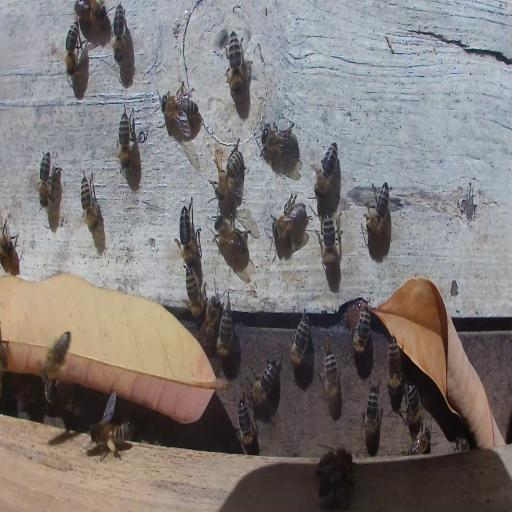bee: (248, 351, 283, 406), (36, 329, 73, 381), (260, 119, 298, 168), (271, 195, 307, 245), (88, 419, 134, 454), (316, 441, 355, 479), (79, 172, 102, 234), (314, 142, 339, 199), (226, 30, 248, 94), (176, 200, 198, 264), (318, 210, 339, 277), (321, 345, 340, 419), (366, 180, 391, 235), (319, 466, 356, 501), (214, 213, 245, 254), (200, 293, 223, 347), (362, 380, 382, 442), (290, 310, 311, 368), (236, 396, 256, 454), (348, 307, 372, 355), (186, 269, 204, 321), (387, 337, 401, 403), (111, 4, 126, 65), (118, 107, 132, 172), (162, 94, 197, 120), (1, 222, 18, 274), (405, 381, 422, 432), (74, 0, 108, 24), (38, 150, 52, 208), (405, 429, 433, 457), (65, 20, 78, 75), (218, 310, 232, 357), (224, 150, 242, 186), (44, 376, 58, 408), (452, 435, 470, 452)
